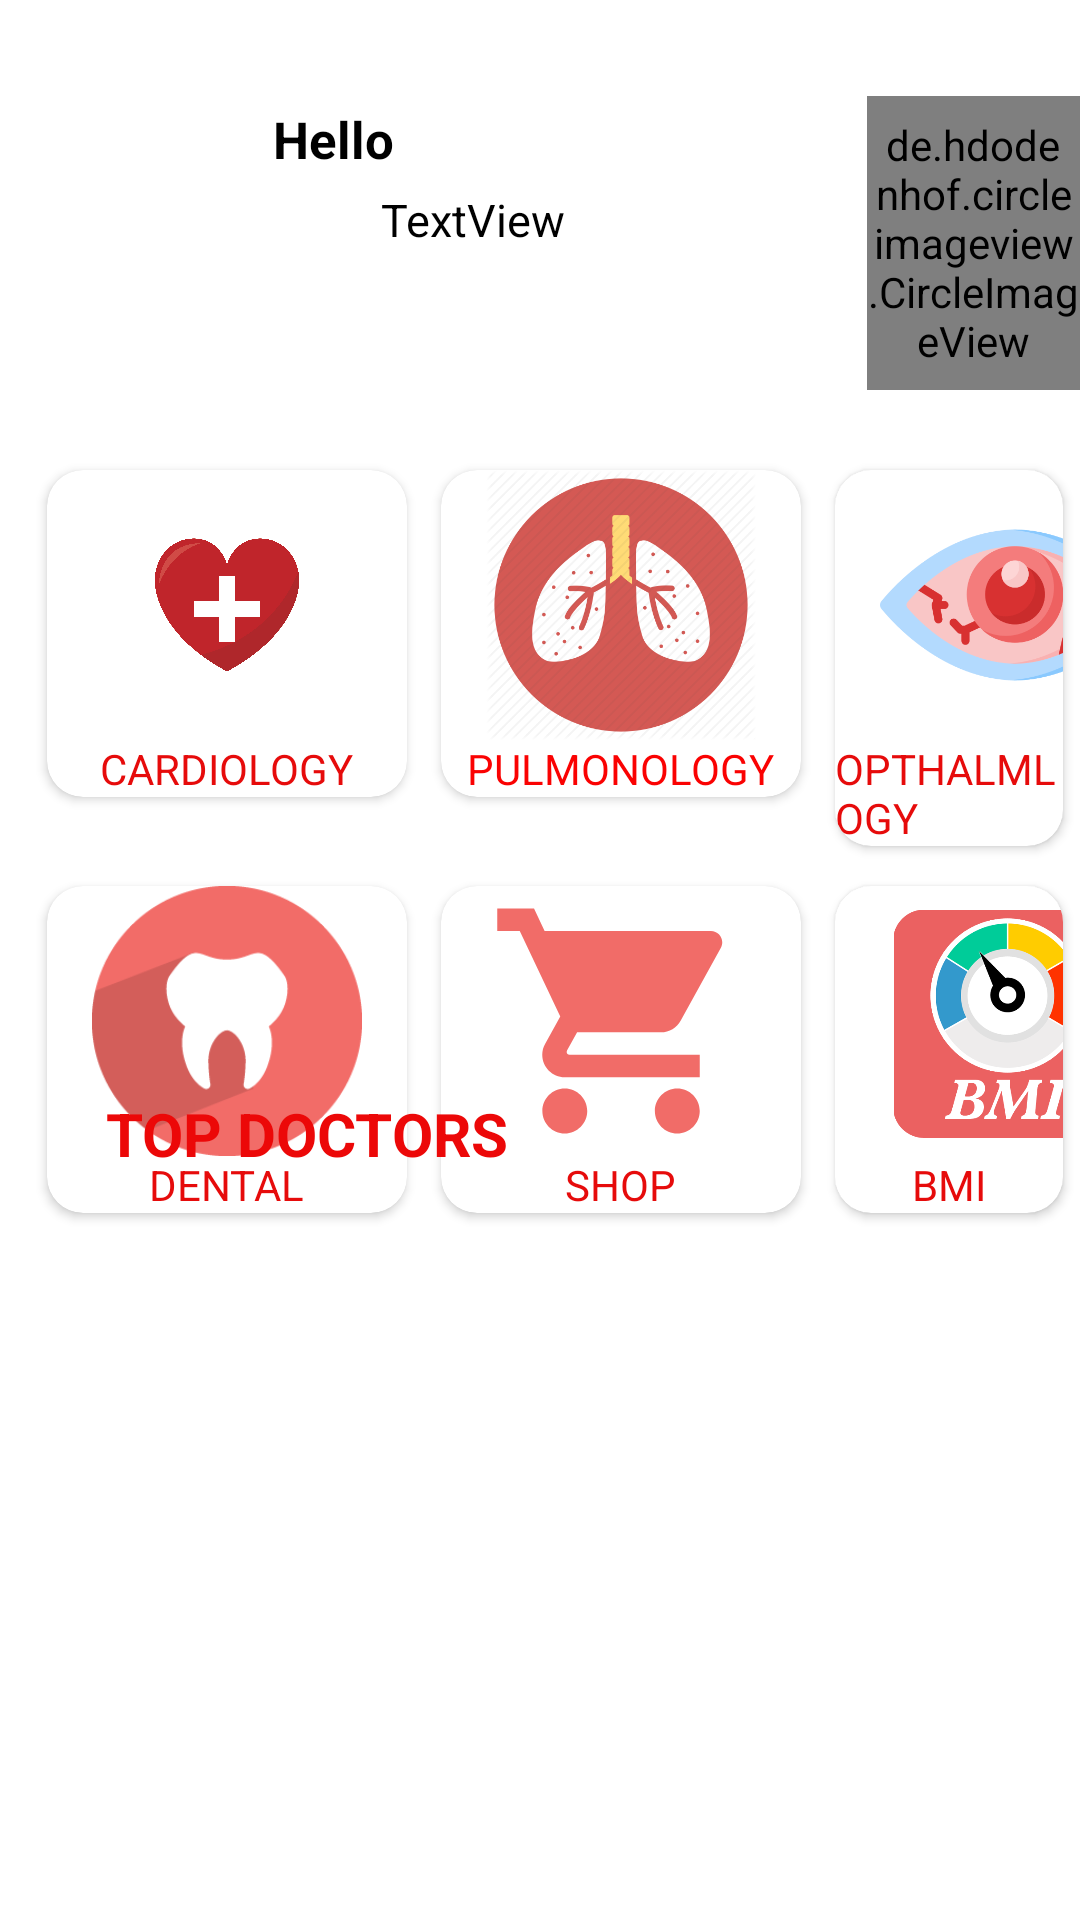

Icon click points for this 1080 x 1920 phone screenshot, format point (x, y):
heart: point (173, 584)
lungicon: point (621, 605)
